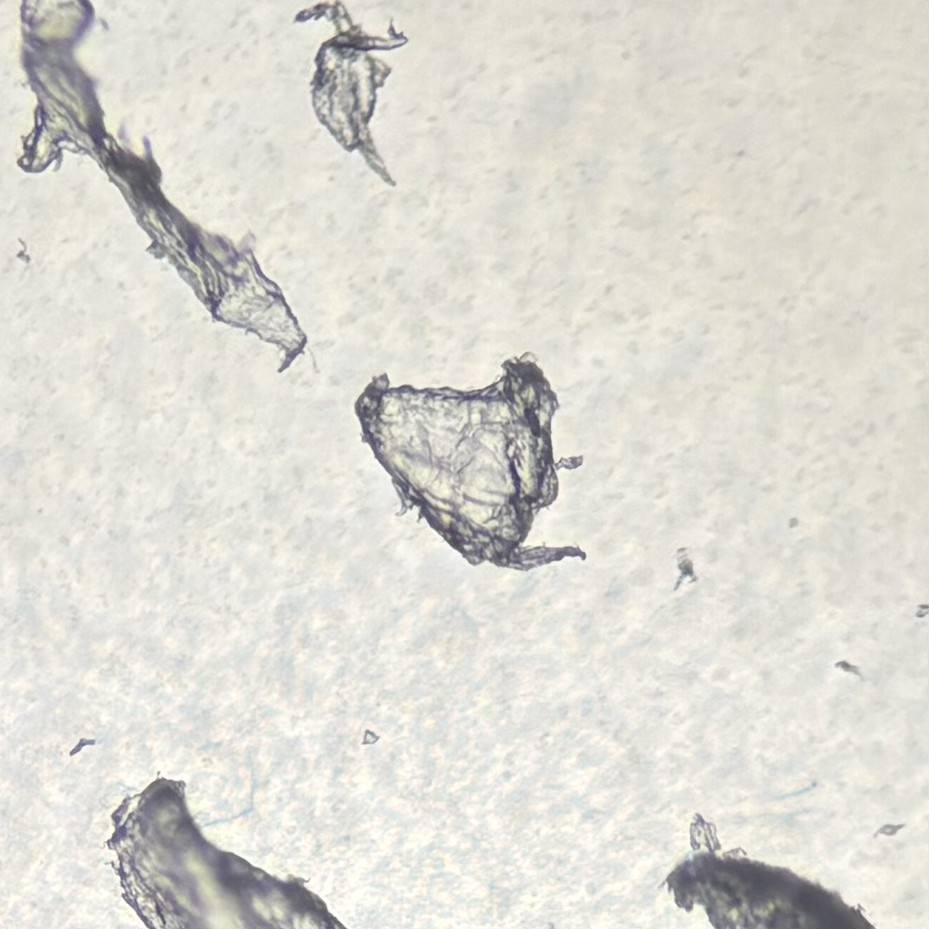microplastic: (16, 1, 310, 374), (353, 351, 588, 572), (102, 771, 349, 929), (659, 811, 875, 929), (292, 1, 410, 187), (672, 546, 700, 592), (871, 820, 910, 840), (835, 661, 867, 681), (66, 738, 100, 755), (357, 729, 380, 745)
